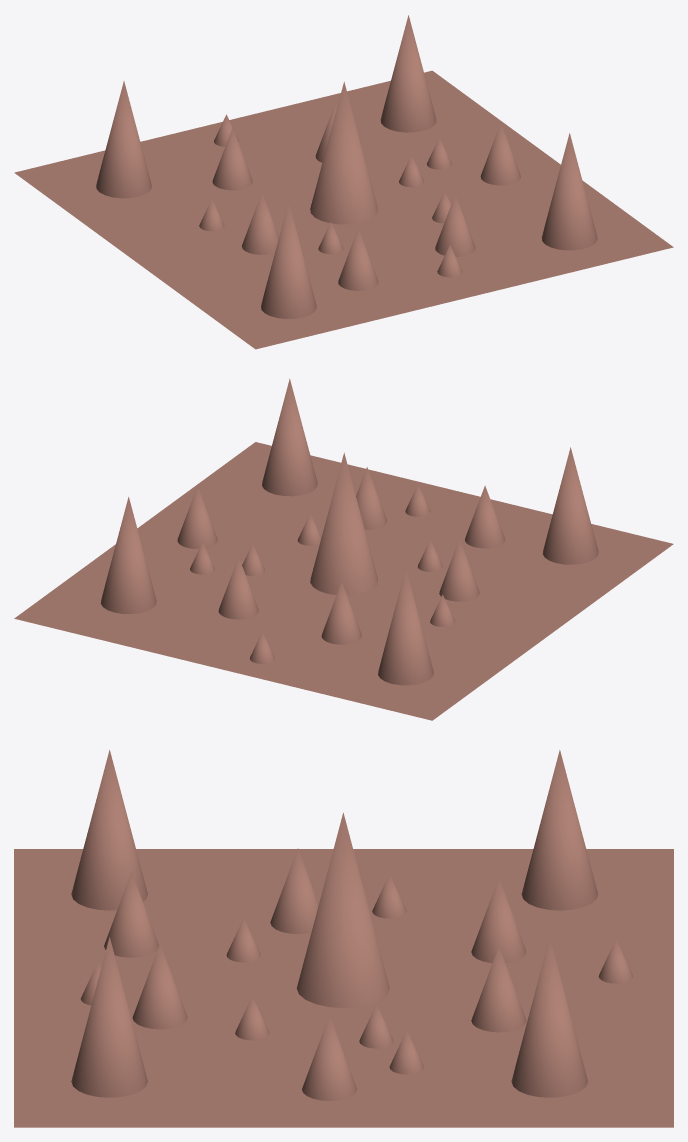
File: piegeAPique.fbx
The picture shows the model from 3 angles, top to bottom: view 1: azimuth 30°, elevation 25°; view 2: azimuth 150°, elevation 25°; view 3: azimuth 270°, elevation 25°; orthographic projection. The views are drawn at different scales.
Visible parts, largest first — view 1: polySurface1; view 2: polySurface1; view 3: polySurface1.
Part boxes in pixels (box(x1,y1,x2,y2)): polySurface1: box(14, 15, 673, 349); polySurface1: box(14, 378, 673, 720); polySurface1: box(14, 750, 673, 1127).
Bounding box in the file's own units: 3 × 1.04 × 3.
